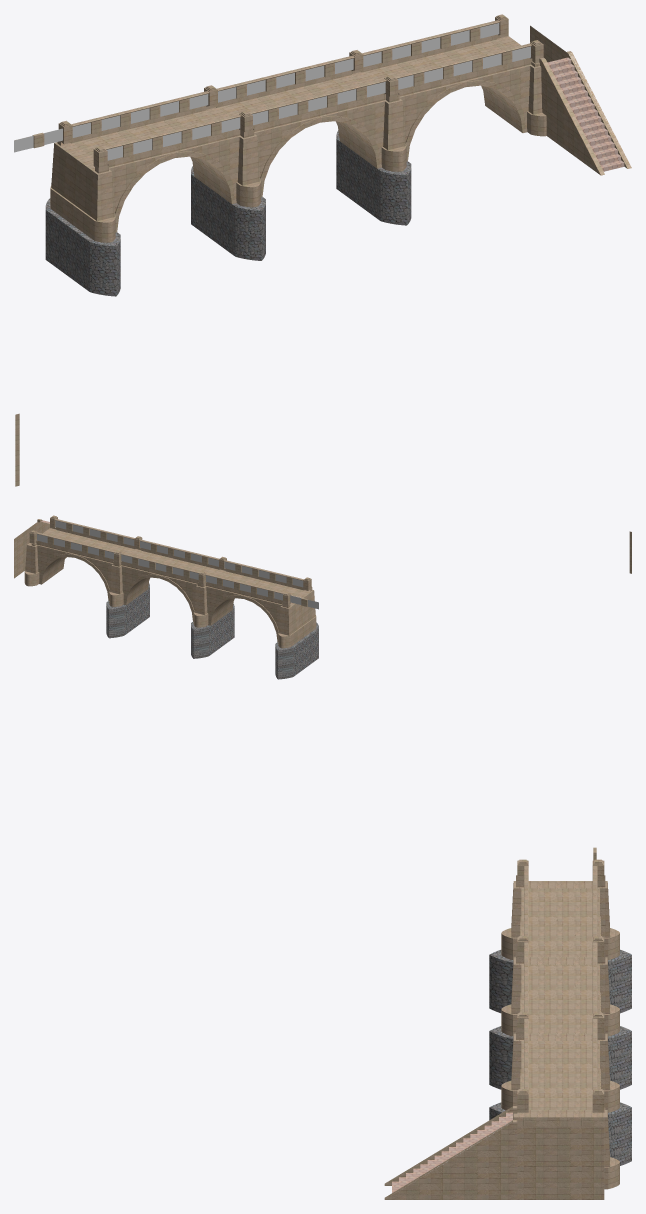
File: bridge3.obj
The picture shows the model from 3 angles, top to bottom: view 1: azimuth 30°, elevation 25°; view 2: azimuth 150°, elevation 25°; view 3: azimuth 270°, elevation 25°; orthographic projection. The views are drawn at different scales.
Visible parts, largest first — view 1: Mesh17 podper2_1 skeD1 Model, Mesh14 podper1 skeD1 Model, Mesh16 podper3 skeD1 Model, Mesh15 podper2 skeD1 Model, Mesh85 schody1 skeD1 Model, Mesh88 skeD1 Model, Mesh20 obluk1 skeD1 Model, Mesh30 obluk3 skeD1 Model, Mesh21 obluk2 skeD1 Model, Mesh93 skeD1 Model, Mesh91 skeD1 Model, Mesh92 skeD1 Model (+10 smaller); view 2: Mesh17 podper2_1 skeD1 Model, Mesh14 podper1 skeD1 Model, Mesh15 podper2 skeD1 Model, Mesh16 podper3 skeD1 Model, Mesh87 skeD1 Model, Mesh20 obluk1 skeD1 Model, Mesh30 obluk3 skeD1 Model, Mesh93 skeD1 Model, Mesh91 skeD1 Model, Mesh21 obluk2 skeD1 Model, Mesh92 skeD1 Model, Mesh31 podper2_4 skeD1 Model (+10 smaller); view 3: Mesh97 skeD1 Model, Mesh85 schody1 skeD1 Model, Mesh92 skeD1 Model, Mesh93 skeD1 Model, Mesh91 skeD1 Model, Mesh14 podper1 skeD1 Model, Mesh15 podper2 skeD1 Model, Mesh18 podper2_2 skeD1 Model, Mesh17 podper2_1 skeD1 Model, Mesh19 podper2_3 skeD1 Model, Mesh31 podper2_4 skeD1 Model, Mesh16 podper3 skeD1 Model.
Part boxes in pixels (left/top/right/bottom): Mesh17 podper2_1 skeD1 Model: left=50, top=142, right=115, bottom=242; Mesh14 podper1 skeD1 Model: left=45, top=198, right=120, bottom=296; Mesh16 podper3 skeD1 Model: left=336, top=130, right=411, bottom=225; Mesh15 podper2 skeD1 Model: left=191, top=166, right=265, bottom=260; Mesh85 schody1 skeD1 Model: left=539, top=51, right=631, bottom=175; Mesh88 skeD1 Model: left=95, top=57, right=539, bottom=173; Mesh20 obluk1 skeD1 Model: left=115, top=151, right=236, bottom=232; Mesh30 obluk3 skeD1 Model: left=405, top=80, right=527, bottom=161; Mesh21 obluk2 skeD1 Model: left=260, top=115, right=381, bottom=196; Mesh93 skeD1 Model: left=73, top=111, right=239, bottom=168; Mesh91 skeD1 Model: left=364, top=40, right=529, bottom=97; Mesh92 skeD1 Model: left=219, top=75, right=384, bottom=132; Mesh17 podper2_1 skeD1 Model: left=278, top=590, right=316, bottom=648; Mesh14 podper1 skeD1 Model: left=275, top=622, right=318, bottom=679; Mesh15 podper2 skeD1 Model: left=191, top=603, right=234, bottom=658; Mesh16 podper3 skeD1 Model: left=106, top=583, right=149, bottom=638; Mesh87 skeD1 Model: left=29, top=541, right=290, bottom=607; Mesh20 obluk1 skeD1 Model: left=208, top=595, right=278, bottom=642; Mesh30 obluk3 skeD1 Model: left=39, top=553, right=109, bottom=600; Mesh93 skeD1 Model: left=207, top=571, right=302, bottom=604; Mesh91 skeD1 Model: left=37, top=530, right=133, bottom=563; Mesh21 obluk2 skeD1 Model: left=123, top=574, right=194, bottom=621; Mesh92 skeD1 Model: left=122, top=551, right=217, bottom=584; Mesh31 podper2_4 skeD1 Model: left=24, top=528, right=57, bottom=586; Mesh97 skeD1 Model: left=517, top=1126, right=604, bottom=1199; Mesh85 schody1 skeD1 Model: left=384, top=1106, right=517, bottom=1199; Mesh92 skeD1 Model: left=521, top=964, right=599, bottom=1033; Mesh93 skeD1 Model: left=521, top=888, right=599, bottom=957; Mesh91 skeD1 Model: left=521, top=1041, right=599, bottom=1109; Mesh14 podper1 skeD1 Model: left=489, top=949, right=631, bottom=1013; Mesh15 podper2 skeD1 Model: left=489, top=1026, right=631, bottom=1089; Mesh18 podper2_2 skeD1 Model: left=501, top=957, right=619, bottom=1036; Mesh17 podper2_1 skeD1 Model: left=501, top=881, right=619, bottom=959; Mesh19 podper2_3 skeD1 Model: left=501, top=1033, right=619, bottom=1112; Mesh31 podper2_4 skeD1 Model: left=513, top=1110, right=619, bottom=1189; Mesh16 podper3 skeD1 Model: left=489, top=1102, right=631, bottom=1165.
Bounding box in the file's own units: 1624 × 269 × 1024.
